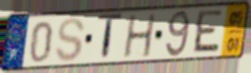0: (29, 19, 55, 64)
9: (164, 9, 193, 59)
E: (190, 9, 225, 55)
H: (121, 12, 157, 60)
S: (54, 16, 87, 63)
T: (97, 11, 124, 63)
